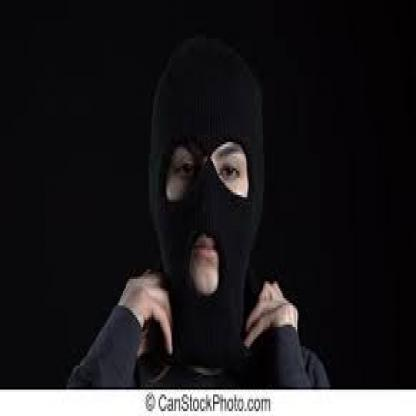criminal: (68, 36, 331, 389)
